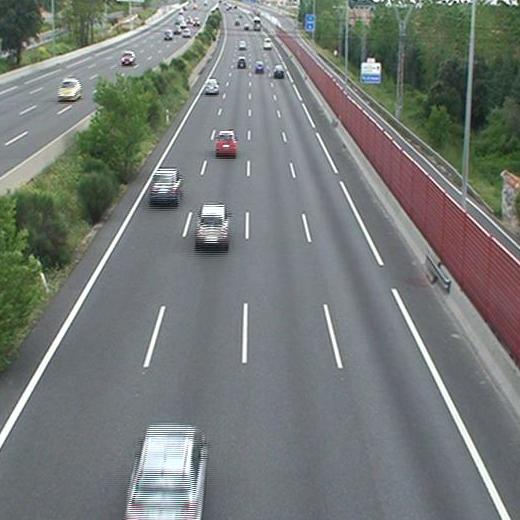car: (126, 425, 207, 520), (196, 206, 228, 245), (150, 169, 182, 202), (216, 132, 237, 153), (204, 79, 219, 94), (274, 66, 283, 76), (255, 61, 264, 71), (238, 40, 247, 48), (237, 58, 245, 67)
van: (263, 38, 271, 48)
